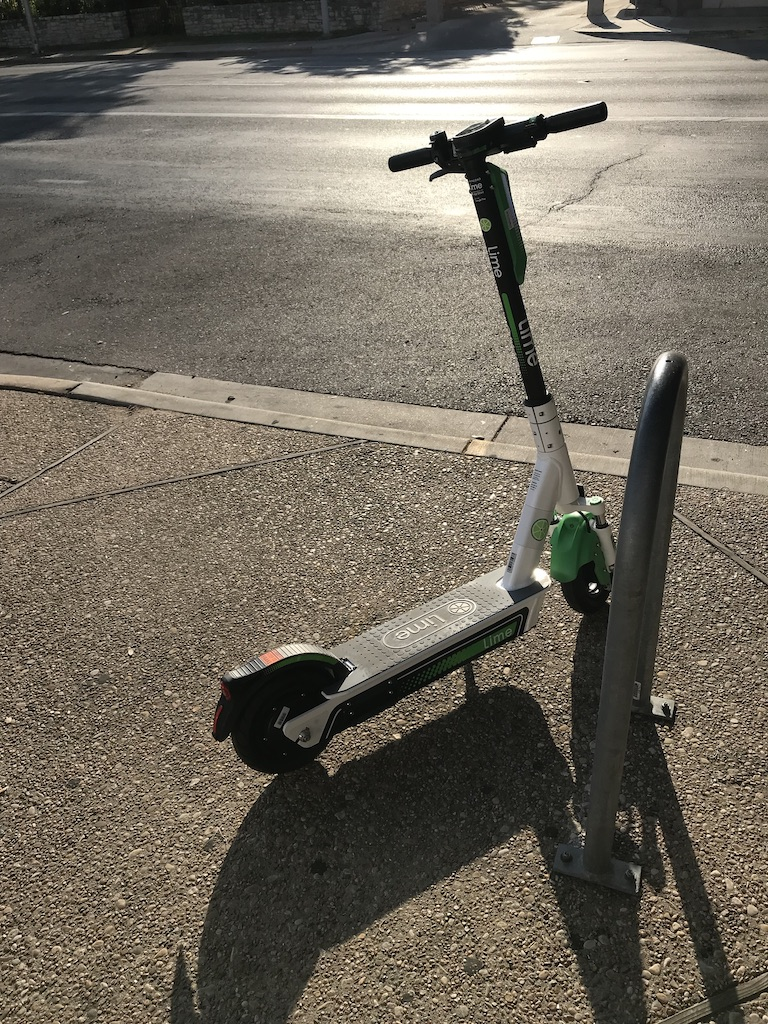scooter: (211, 101, 616, 775)
